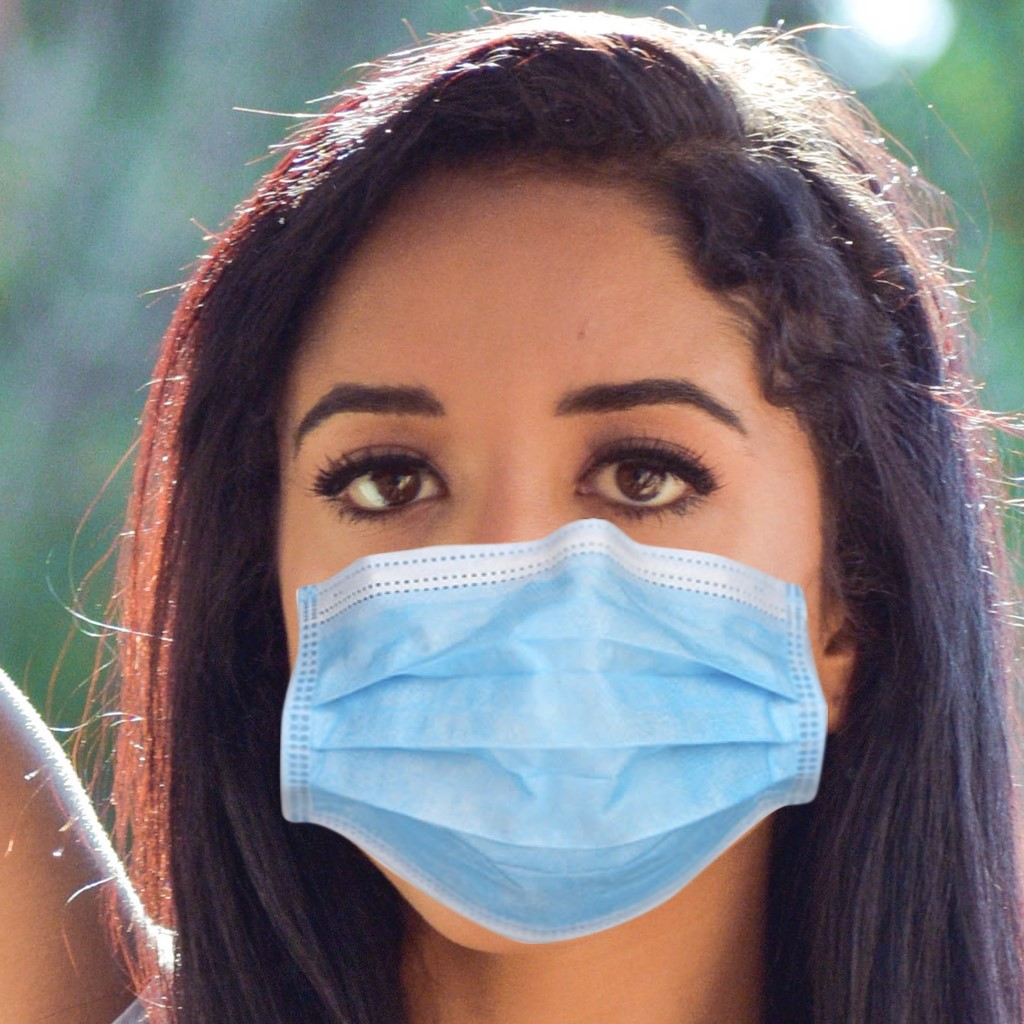con_mascara: (272, 185, 851, 944)
